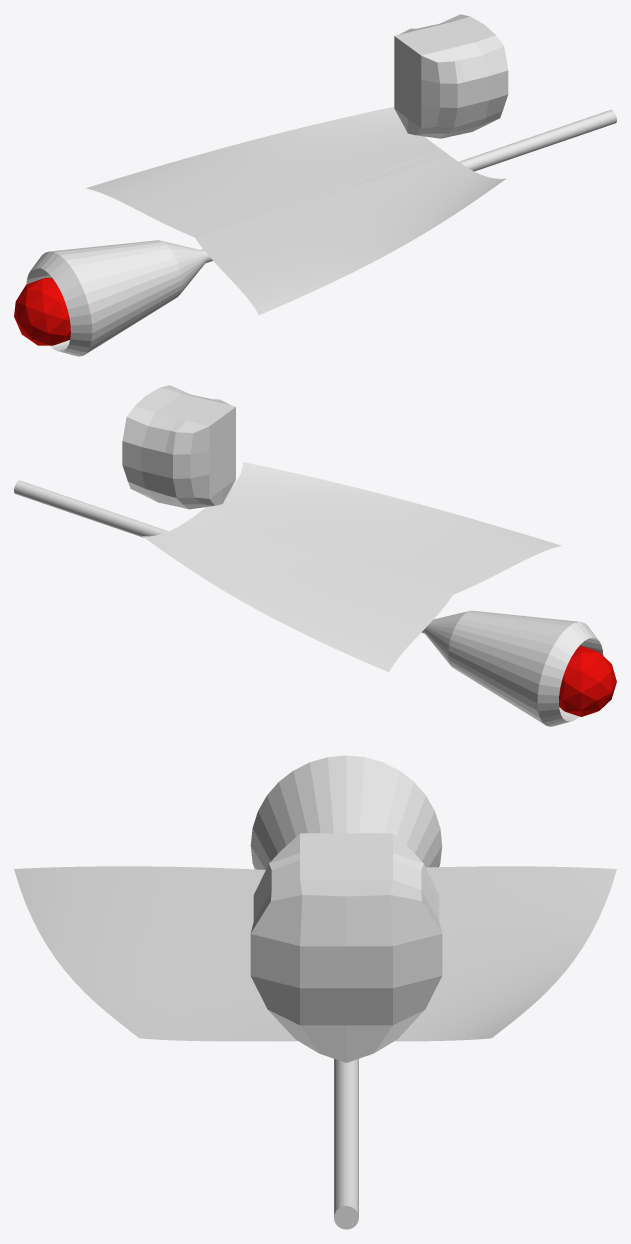
The model's file is QuidditchPlayer.fbx.
The picture shows the model from 3 angles, top to bottom: view 1: azimuth 30°, elevation 25°; view 2: azimuth 150°, elevation 25°; view 3: azimuth 270°, elevation 25°; orthographic projection. The views are drawn at different scales.
Parts seen in each view (by area): view 1: SurfPatch, Cylinder, Cube, Icosphere; view 2: SurfPatch, Cylinder, Cube, Icosphere; view 3: SurfPatch, Cube, Cylinder.
Part boxes in pixels (x1,y1,x2,y2): SurfPatch: (86, 107, 505, 314); Cylinder: (26, 109, 616, 356); Cube: (394, 14, 508, 138); Icosphere: (14, 278, 70, 345); SurfPatch: (142, 462, 561, 672); Cylinder: (14, 480, 603, 726); Cube: (122, 385, 235, 509); Icosphere: (559, 646, 616, 716); SurfPatch: (14, 866, 616, 1041); Cube: (250, 833, 442, 1062); Cylinder: (250, 755, 442, 1229).
Bounding box in the file's own units: 386 × 140 × 195.
